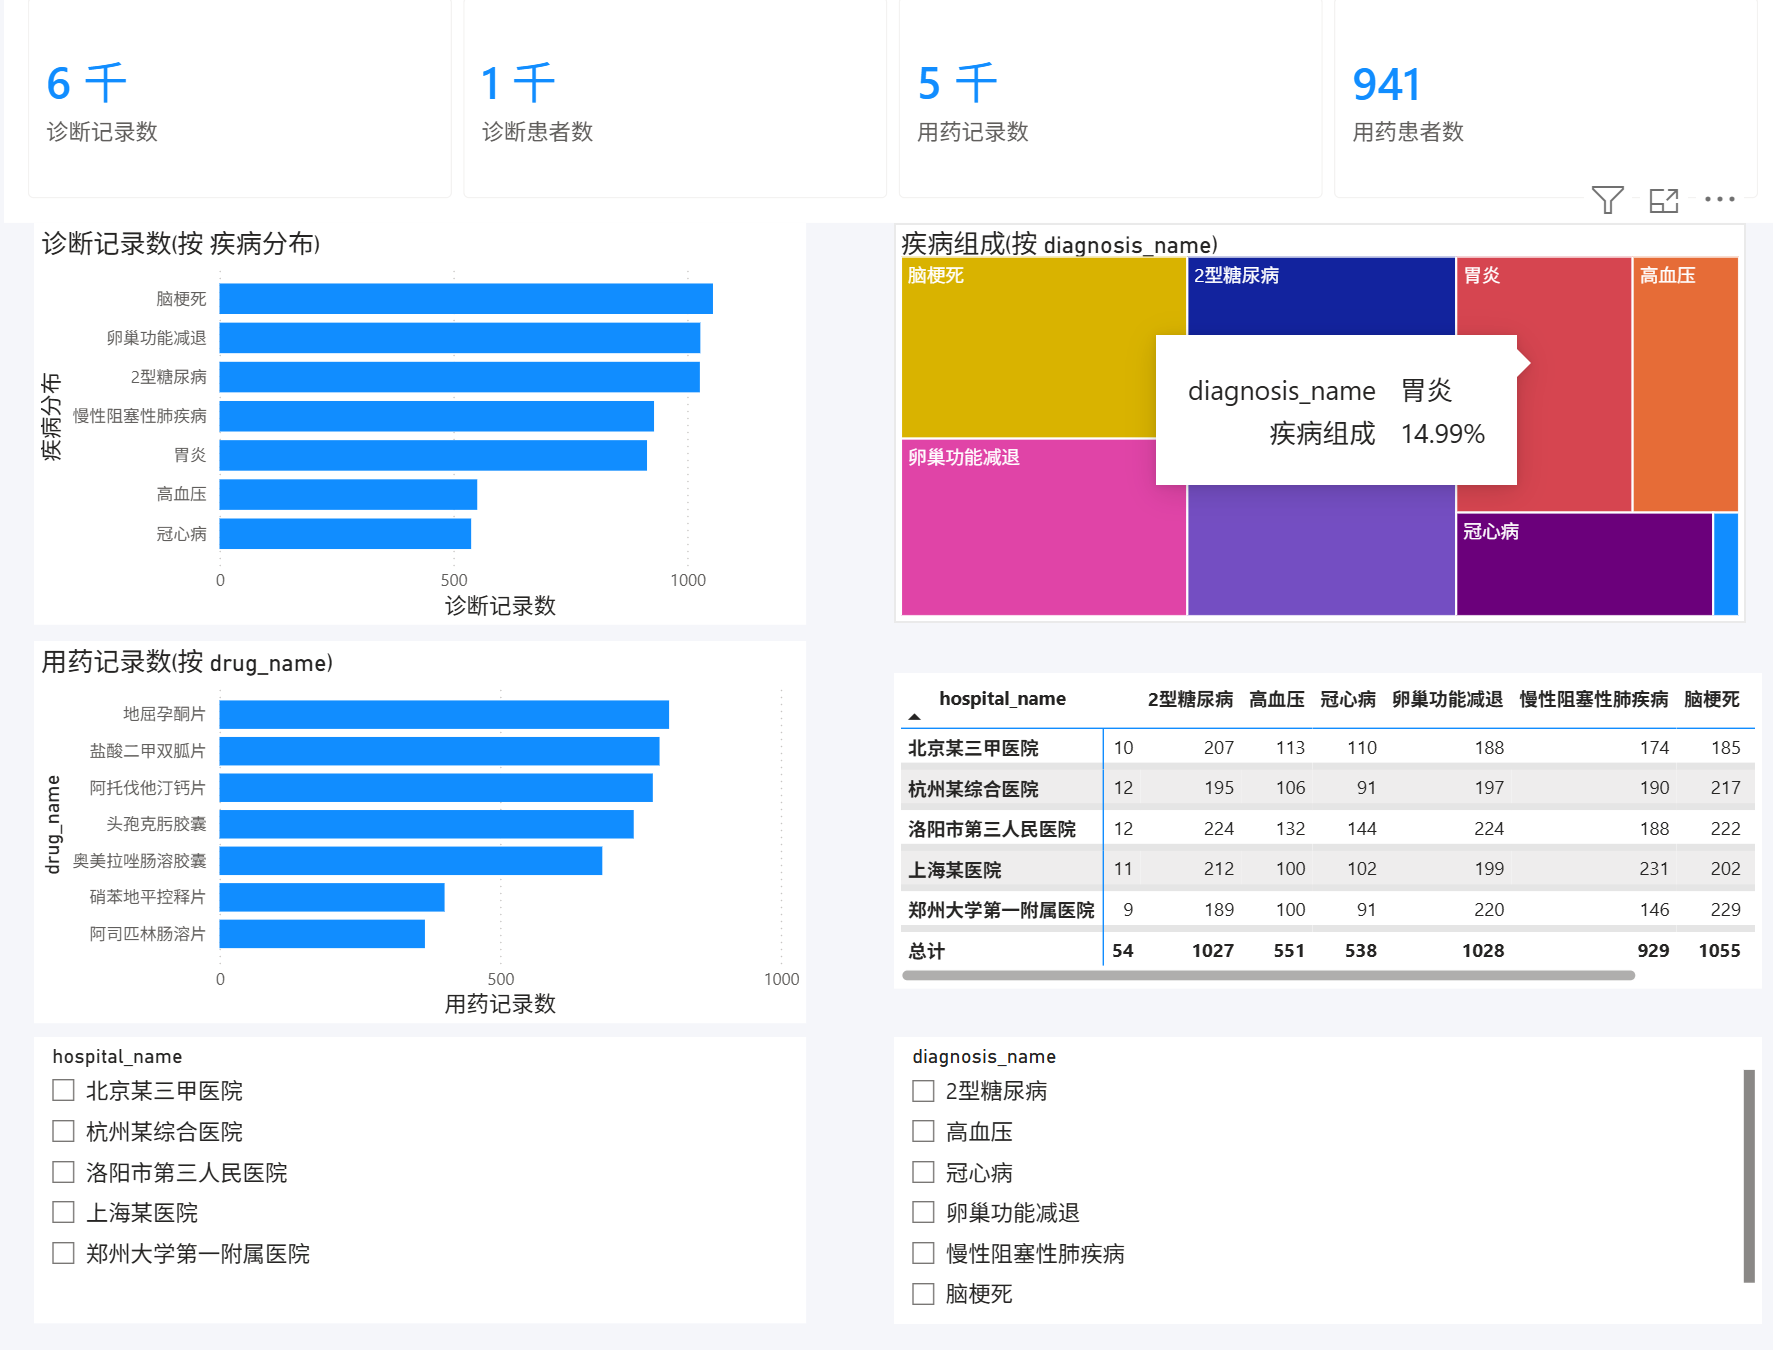

What the dashboard file says about the page in this screenshot:
{"tool":"powerbi","page":{"name":"疾病与用药分析（Clinical Analytics）","canvas":[1280,1000],"ordinal":2},"visuals":[{"type":"cardVisual","fields":{"Data":["public diagnosis_synthetic.诊断记录数","public diagnosis_synthetic.诊断患者数","public medication_synthetic.用药记录数","public medication_synthetic.用药患者数"]},"box":[10,0,1270,178.6],"z":0},{"type":"clusteredBarChart","fields":{"Category":["public diagnosis_synthetic.diagnosis_name"],"Y":["public diagnosis_synthetic.诊断记录数"]},"box":[31.4,178.6,551.4,287.1],"z":1000},{"type":"clusteredBarChart","fields":{"Category":["public medication_synthetic.drug_name"],"Y":["public medication_synthetic.用药记录数"]},"box":[31.4,477.1,551.4,272.9],"z":2000},{"type":"pivotTable","fields":{"Rows":["public visit_synthetic.hospital_name"],"Columns":["public diagnosis_synthetic.diagnosis_name"],"Values":["public diagnosis_synthetic.诊断记录数"]},"box":[645.7,500,620,225.7],"z":3000},{"type":"slicer","fields":{"Values":["public visit_synthetic.hospital_name"]},"box":[31.4,760,551.4,204.3],"z":4000},{"type":"slicer","fields":{"Values":["public diagnosis_synthetic.diagnosis_name"]},"box":[645.7,760,620,204.3],"z":5000},{"type":"treemap","fields":{"Group":["public diagnosis_synthetic.diagnosis_name"],"Values":["public diagnosis_synthetic.诊断记录数"]},"box":[645.7,178.6,608.6,285.7],"z":6000}]}

Visuals, with their boxes in screenshot pixels (x1, y1, x2, y2), scaled from the page's 1280x1000 canvas onto the 1773x1350 screenshot:
cardVisual - public diagnosis_synthetic.诊断记录数 x public diagnosis_synthetic.诊断患者数: pyautogui.locateOnScreen(14, 0, 1772, 241)
clusteredBarChart - public diagnosis_synthetic.diagnosis_name x public diagnosis_synthetic.诊断记录数: pyautogui.locateOnScreen(43, 241, 807, 629)
clusteredBarChart - public medication_synthetic.drug_name x public medication_synthetic.用药记录数: pyautogui.locateOnScreen(43, 644, 807, 1013)
pivotTable - public visit_synthetic.hospital_name x public diagnosis_synthetic.diagnosis_name: pyautogui.locateOnScreen(894, 675, 1753, 980)
slicer - public visit_synthetic.hospital_name: pyautogui.locateOnScreen(43, 1026, 807, 1302)
slicer - public diagnosis_synthetic.diagnosis_name: pyautogui.locateOnScreen(894, 1026, 1753, 1302)
treemap - public diagnosis_synthetic.diagnosis_name x public diagnosis_synthetic.诊断记录数: pyautogui.locateOnScreen(894, 241, 1737, 627)
